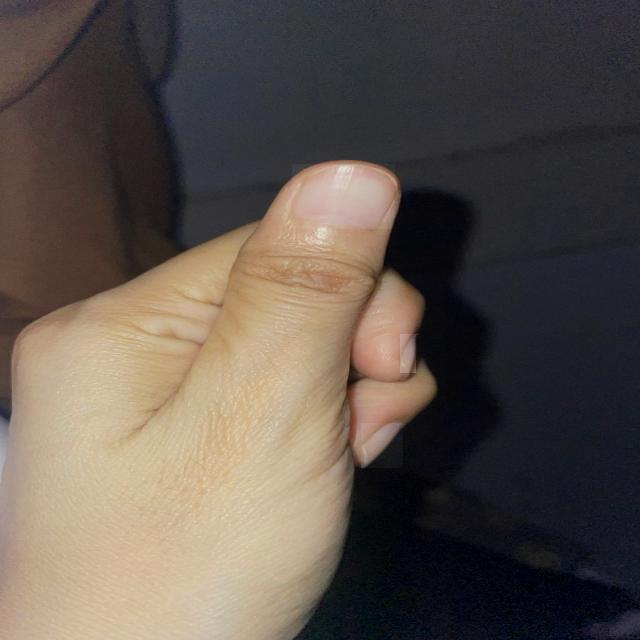sehat: (293, 164, 395, 229), (362, 424, 403, 468), (401, 335, 416, 373)
